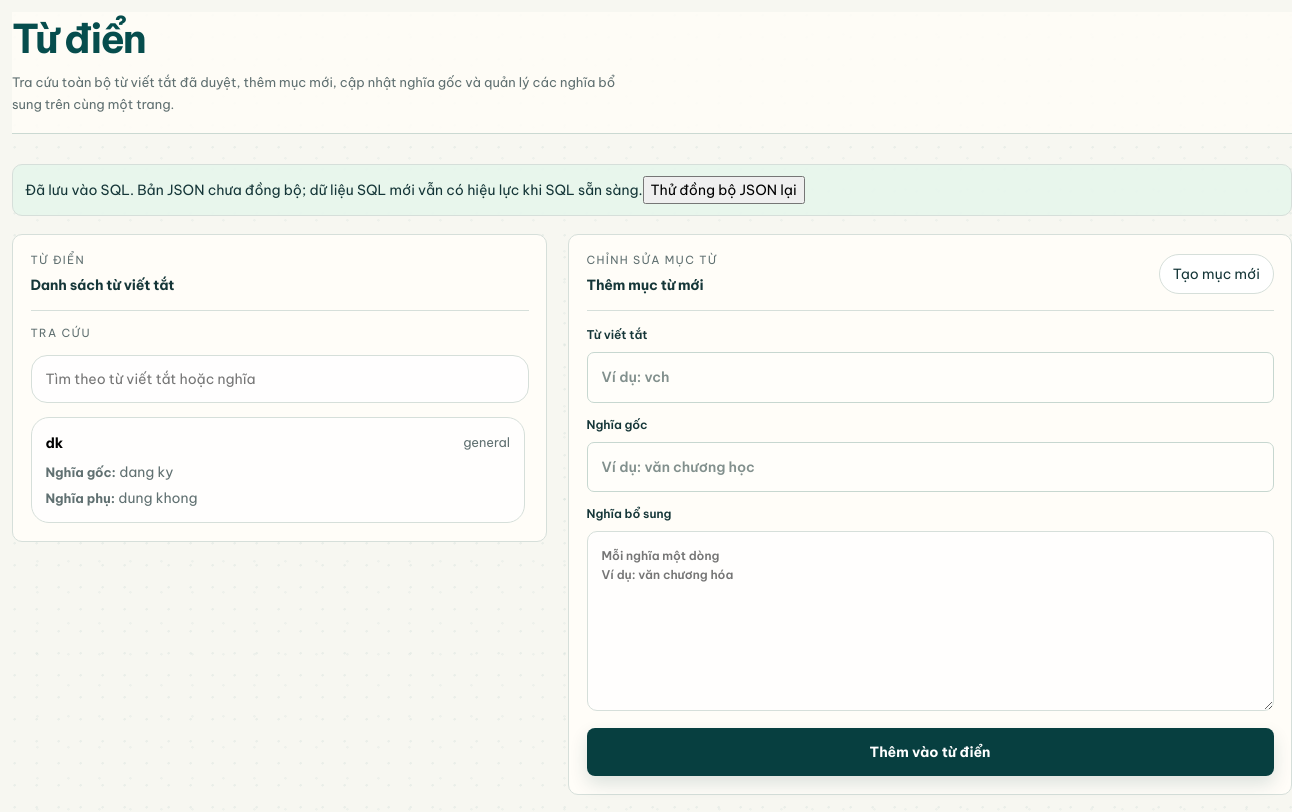
Scenario: AdminDictionaryPage › reads a persisted export failure and retries without resaving the SQL edit
Expected: the text "Đã lưu vào SQL" is shown, [25, 181, 642, 199]
Step 1. Click the button "Thử đồng bộ JSON lại" → (724, 190), box [642, 176, 805, 204]
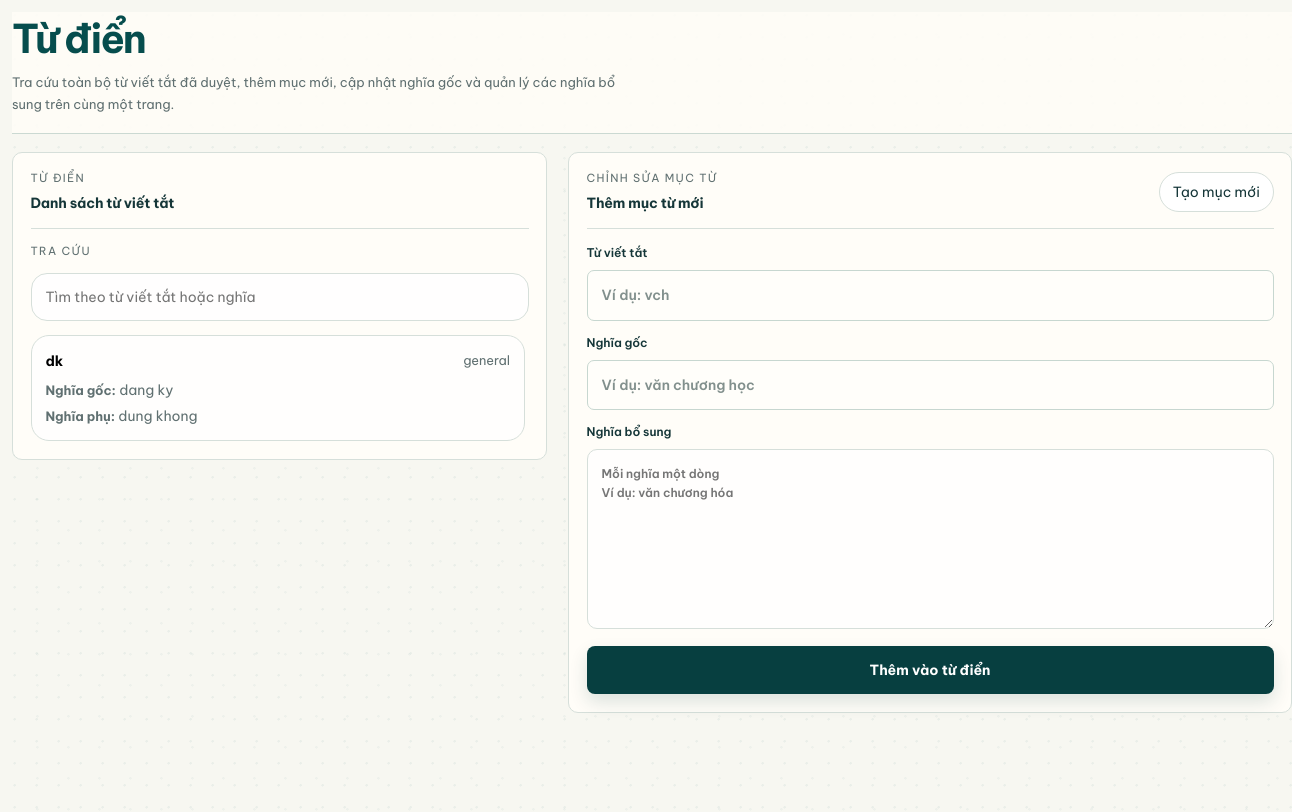
Now the text "Đã lưu vào SQL" is gone
